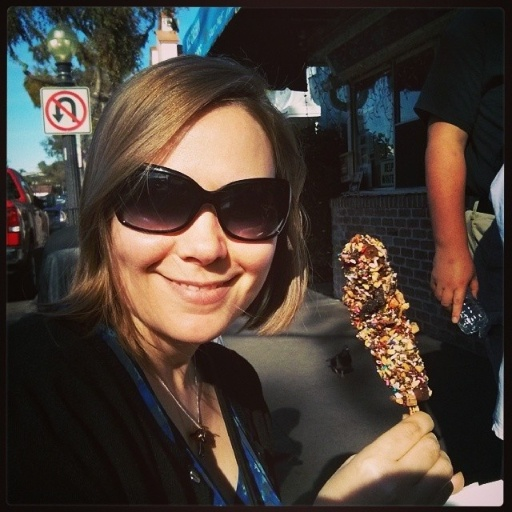hand: (315, 399, 464, 507), (424, 236, 481, 327)
